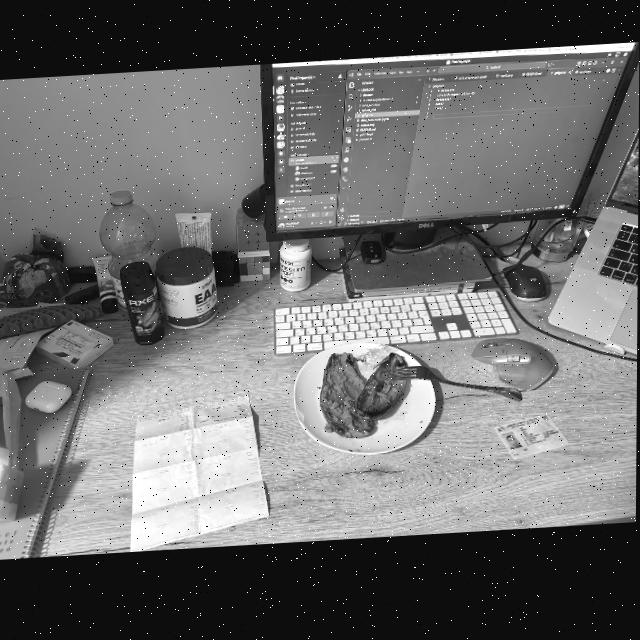card: (495, 414, 569, 459)
document: (130, 395, 268, 552)
